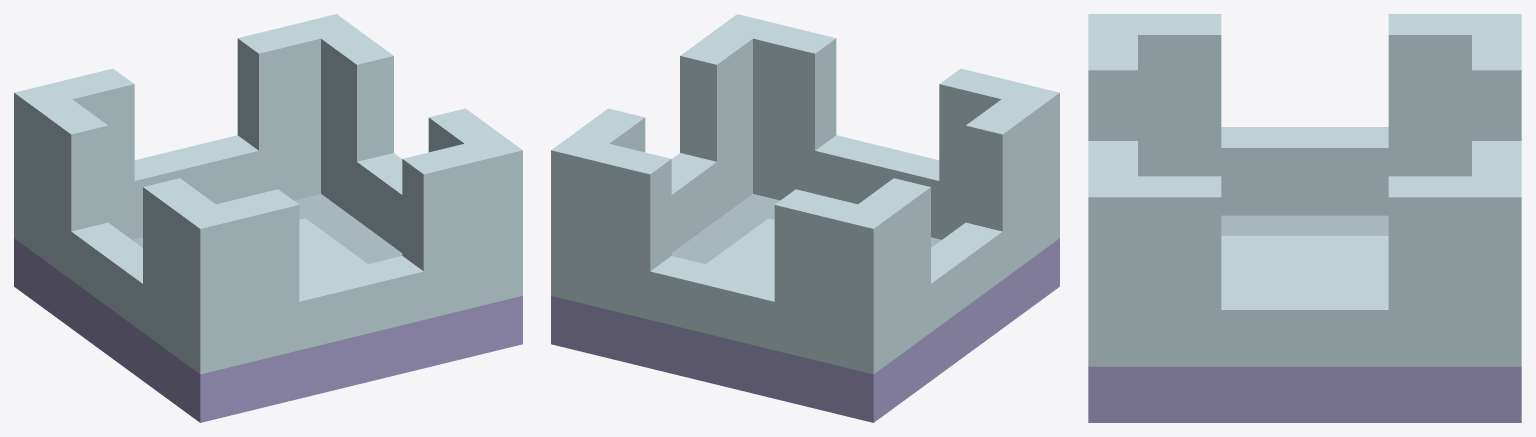
Rendered from towerSquare_middleC.glb.
The picture shows the model from 3 angles, left to right: view 1: azimuth 30°, elevation 25°; view 2: azimuth 150°, elevation 25°; view 3: azimuth 270°, elevation 25°; orthographic projection. The views are drawn at different scales.
Parts seen in each view (by area): view 1: towerSquare_middleC; view 2: towerSquare_middleC; view 3: towerSquare_middleC.
Part boxes in pixels (<box>): towerSquare_middleC: <box>14,14,522,422</box>; towerSquare_middleC: <box>551,14,1059,422</box>; towerSquare_middleC: <box>1088,14,1521,422</box>.
Bounding box in the file's own units: 0.87 × 0.5 × 0.87.
